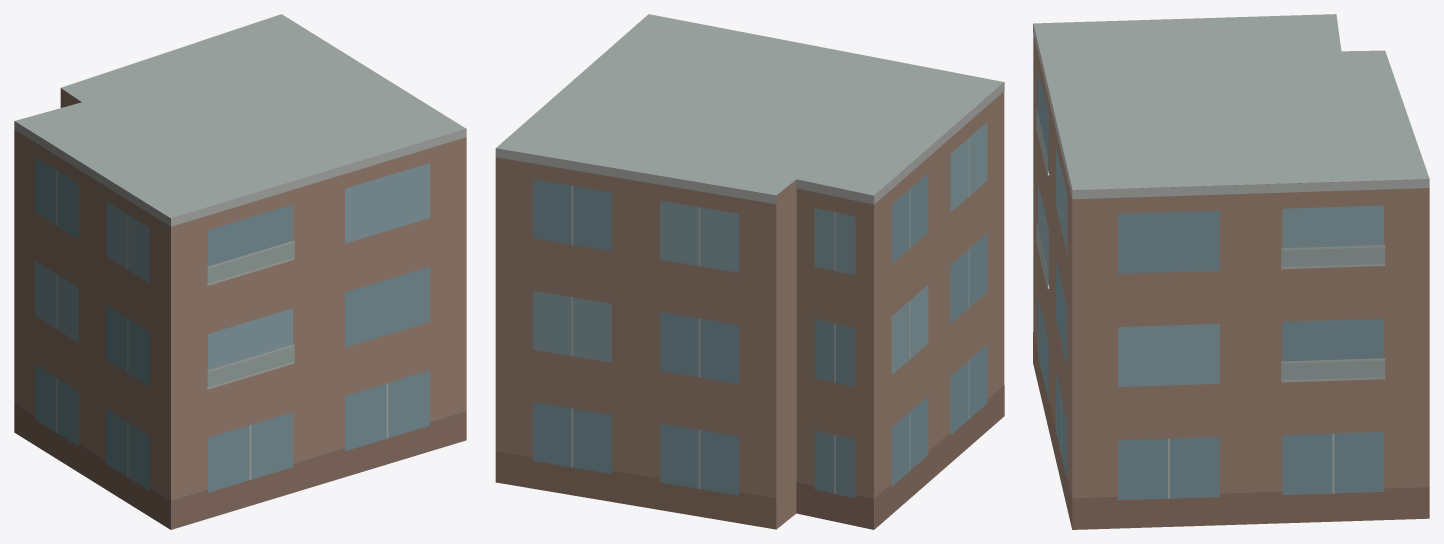
The model's file is survey-upis-32655295.glb.
The picture shows the model from 3 angles, left to right: view 1: azimuth 30°, elevation 25°; view 2: azimuth 150°, elevation 25°; view 3: azimuth 270°, elevation 25°; orthographic projection. The views are drawn at different scales.
Parts seen in each view (by area): view 1: survey-upis-32655295.tmp; view 2: survey-upis-32655295.tmp; view 3: survey-upis-32655295.tmp.
Boxes of the visible parts, <box> form: survey-upis-32655295.tmp: <box>14,14,466,529</box>; survey-upis-32655295.tmp: <box>495,14,1004,529</box>; survey-upis-32655295.tmp: <box>1033,14,1429,529</box>.
Bounding box in the file's own units: 10.13 × 9.1 × 9.64.
